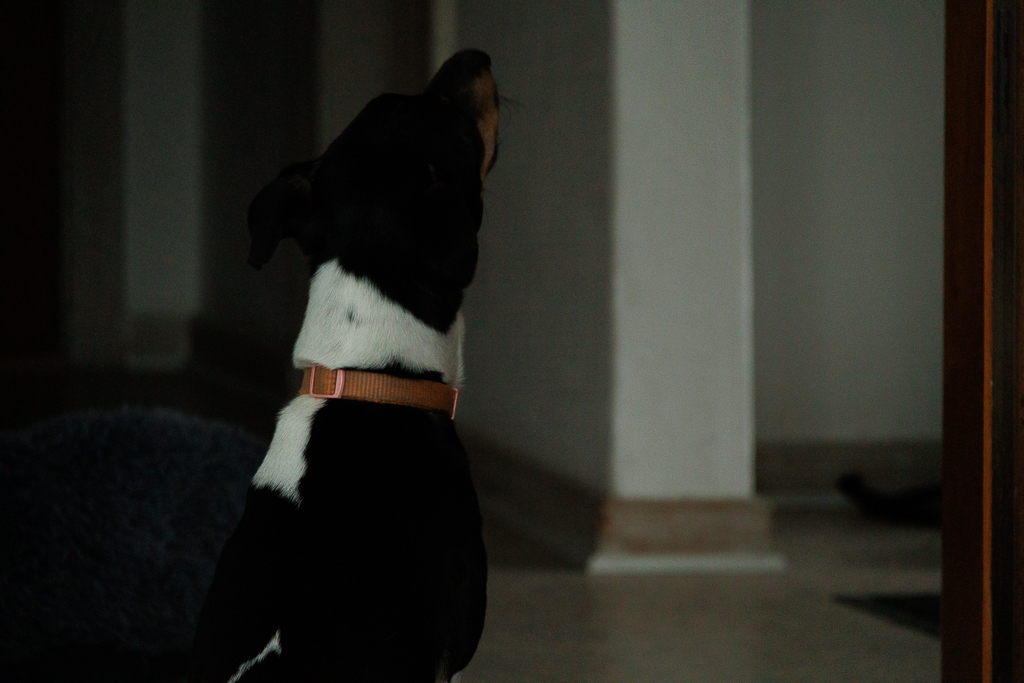Dog: (158, 36, 540, 683)
